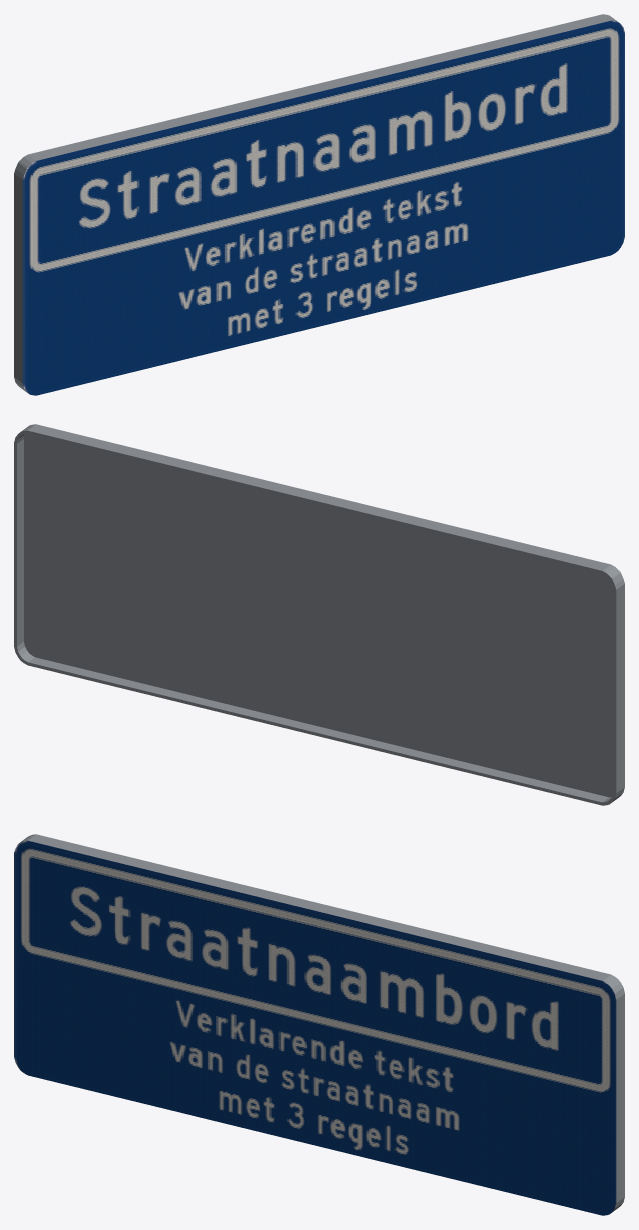
3 renders of one model, top to bottom at view 1: azimuth 30°, elevation 25°; view 2: azimuth 150°, elevation 25°; view 3: azimuth 330°, elevation 25°, orthographic.
Parts seen in each view (by area): view 1: cat_83493727906f0ac4; view 2: cat_83493727906f0ac4; view 3: cat_83493727906f0ac4.
Part boxes in pixels (x1=…): cat_83493727906f0ac4: x1=14, y1=14, x2=624, y2=395; cat_83493727906f0ac4: x1=14, y1=424, x2=624, y2=805; cat_83493727906f0ac4: x1=14, y1=834, x2=624, y2=1215.
Size of the model in its own units: 0.6 by 0.015 by 0.2235.
Materials: 2 (1 with a texture image).
